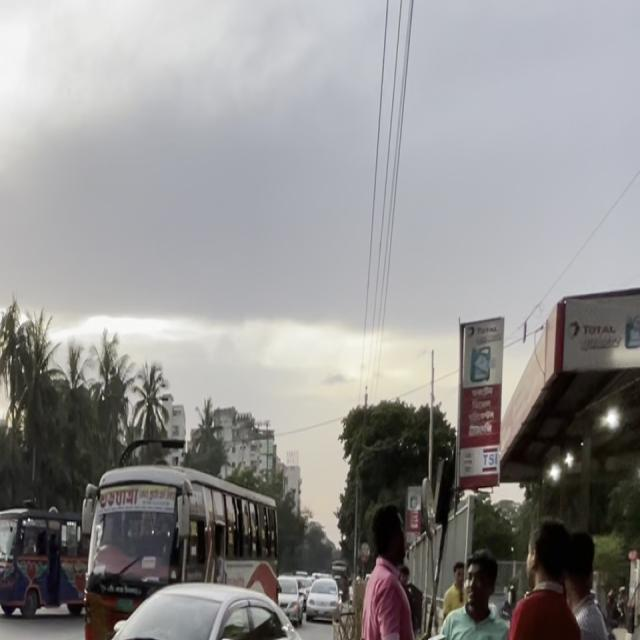car: (58, 556, 322, 640)
rickshaw: (588, 548, 640, 640)
